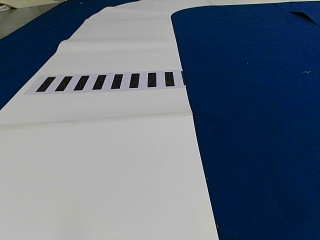crosswalk: (37, 72, 176, 92)
